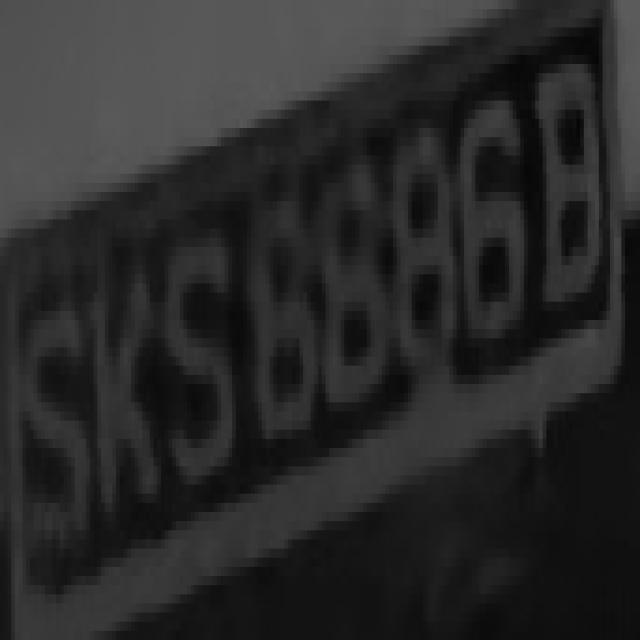6: (449, 64, 535, 384), (240, 146, 318, 494), (311, 128, 389, 448)
8: (378, 92, 457, 420)
B: (539, 27, 614, 366)
K: (71, 229, 154, 585)
S: (150, 201, 236, 512), (11, 274, 86, 576)
